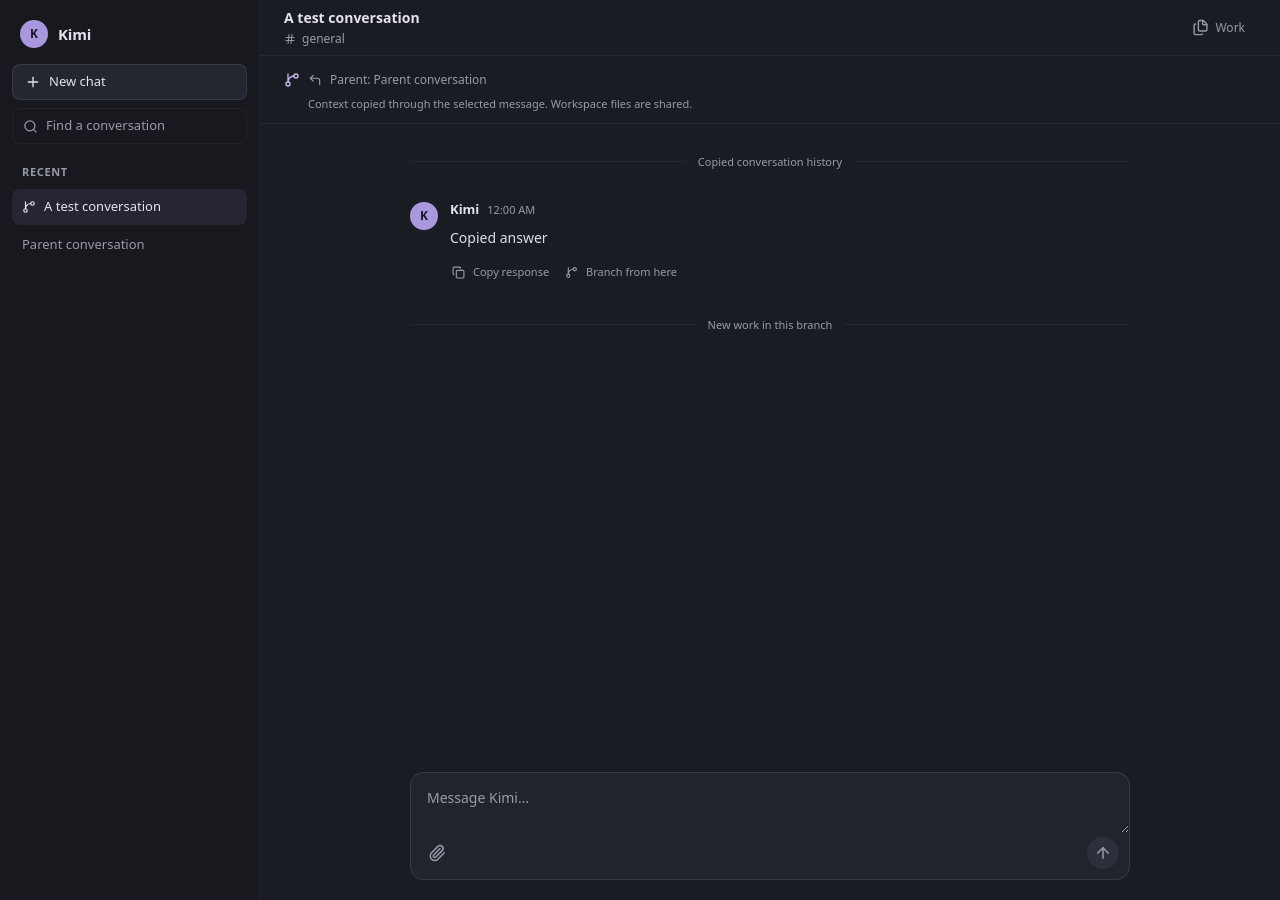
it: loads earlier parent history and focuses the exact branch starting message
The image size is (1280, 900).
Expected: the text "Copied conversation history" is shown, [698,154,842,168]
Expected: the text "New work in this branch" is shown, [708,317,832,332]
Click the button "Parent: Parent conversation": (397, 80) [308,66,487,94]
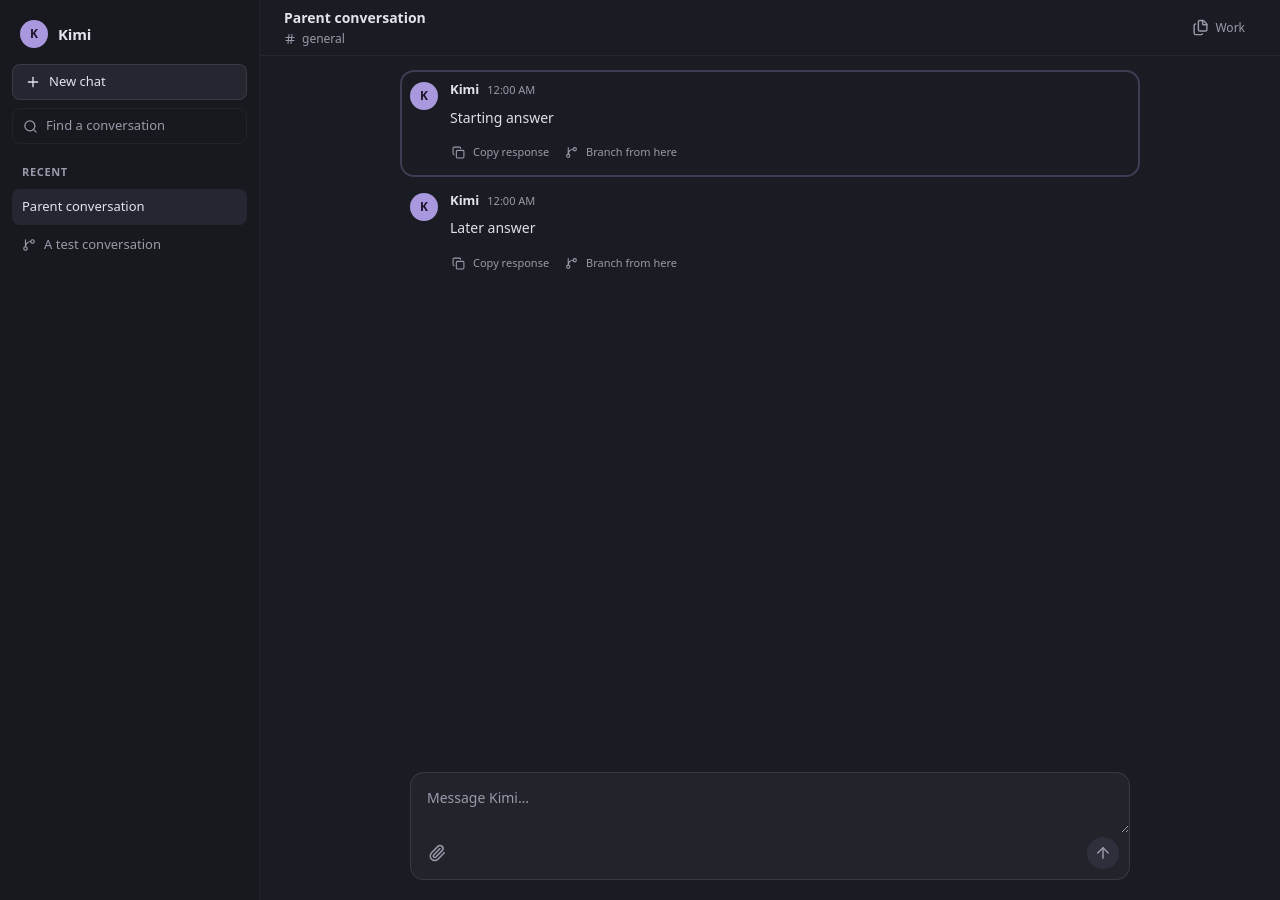
Expected: the text "Later answer" is shown, [450,218,536,237]
